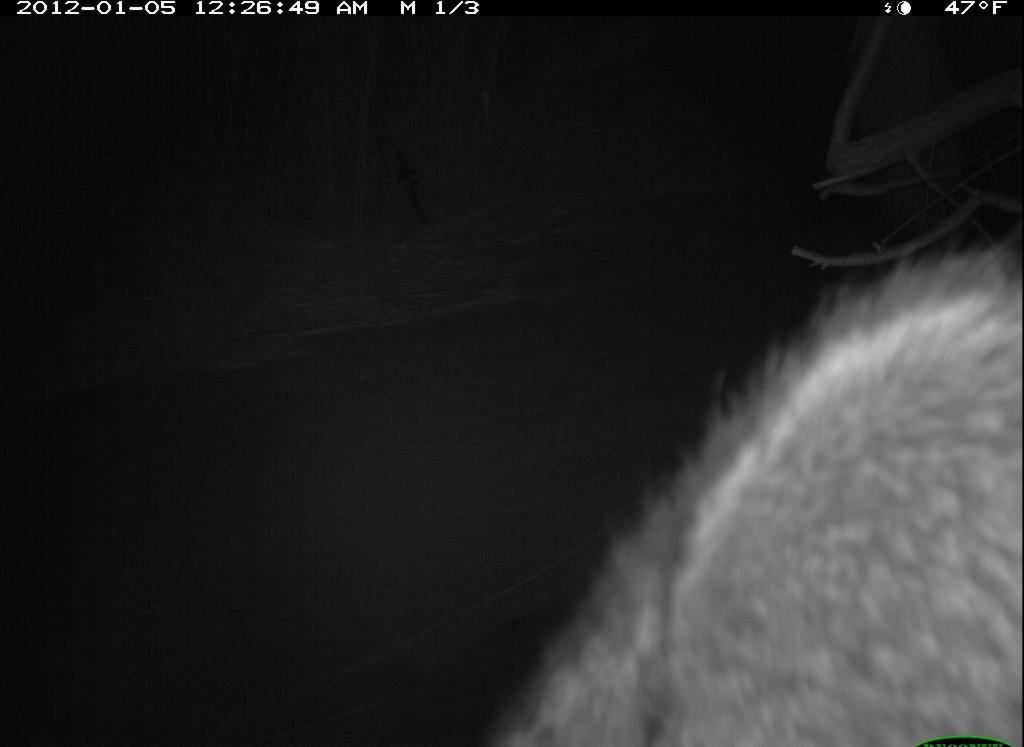raccoon: (474, 225, 1016, 747)
